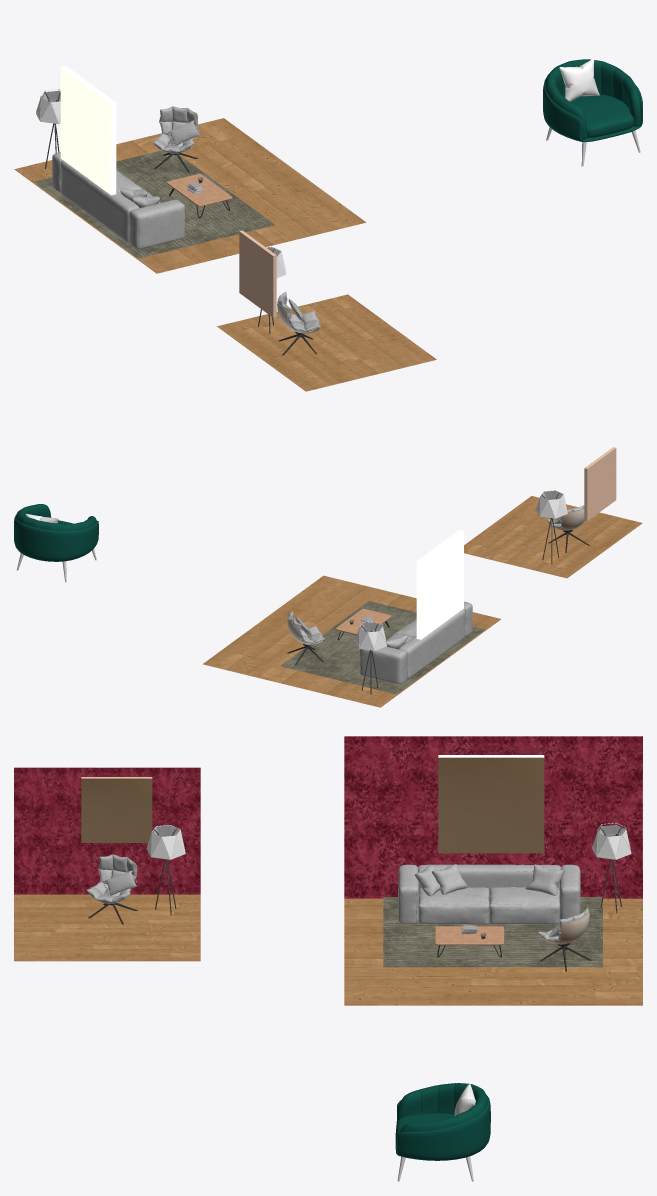
File: my_room.glb
3 views of the same model, one above another, from view 1: azimuth 30°, elevation 25°; view 2: azimuth 150°, elevation 25°; view 3: azimuth 270°, elevation 25° (orthographic). The views are drawn at different scales.
Parts seen in each view (by area): view 1: Mesh_0.001, Sofa, Mesh_0.003, Cube.001_3, Cube.002_4, Cube_2, Plane_6, Mesh_3; view 2: Mesh_0.001, Sofa, Mesh_0.003, Cube_2, Cube.001_3, Mesh_3, Floor_Lamp; view 3: Mesh_0.001, Mesh_1.001, Sofa, Room, Mesh_0.003, Cube_2, Cube.001_3, Mesh_3, Floor_Lamp.
Boxes of the visible parts, bbox=[...] form: Mesh_0.001: bbox=[14, 65, 366, 273]; Sofa: bbox=[217, 230, 436, 391]; Mesh_0.003: bbox=[52, 152, 185, 248]; Cube.001_3: bbox=[545, 59, 640, 139]; Cube.002_4: bbox=[570, 94, 634, 137]; Cube_2: bbox=[543, 79, 642, 142]; Plane_6: bbox=[559, 59, 599, 101]; Mesh_3: bbox=[36, 91, 60, 124]; Mesh_0.001: bbox=[203, 529, 501, 707]; Sofa: bbox=[464, 447, 642, 578]; Mesh_0.003: bbox=[360, 601, 472, 684]; Cube_2: bbox=[14, 515, 98, 561]; Cube.001_3: bbox=[16, 504, 96, 531]; Mesh_3: bbox=[355, 622, 386, 650]; Floor_Lamp: bbox=[536, 490, 567, 518]; Mesh_0.001: bbox=[344, 755, 642, 1005]; Mesh_1.001: bbox=[344, 736, 642, 898]; Sofa: bbox=[14, 777, 200, 961]; Room: bbox=[14, 767, 200, 894]; Mesh_0.003: bbox=[398, 864, 580, 924]; Cube_2: bbox=[395, 1094, 490, 1160]; Cube.001_3: bbox=[397, 1083, 488, 1132]; Mesh_3: bbox=[592, 825, 631, 859]; Floor_Lamp: bbox=[146, 825, 185, 859].
Size of the model in its own units: 10.81 by 3.44 by 10.6.
Materials: 10 (4 with a texture image).
